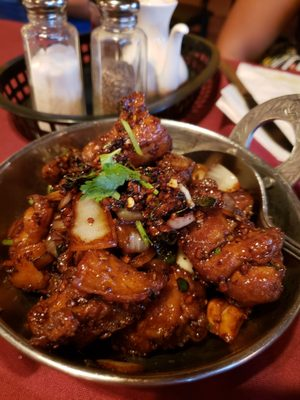burger: (20, 0, 86, 117), (90, 0, 148, 115)
curry: (0, 3, 299, 387)
